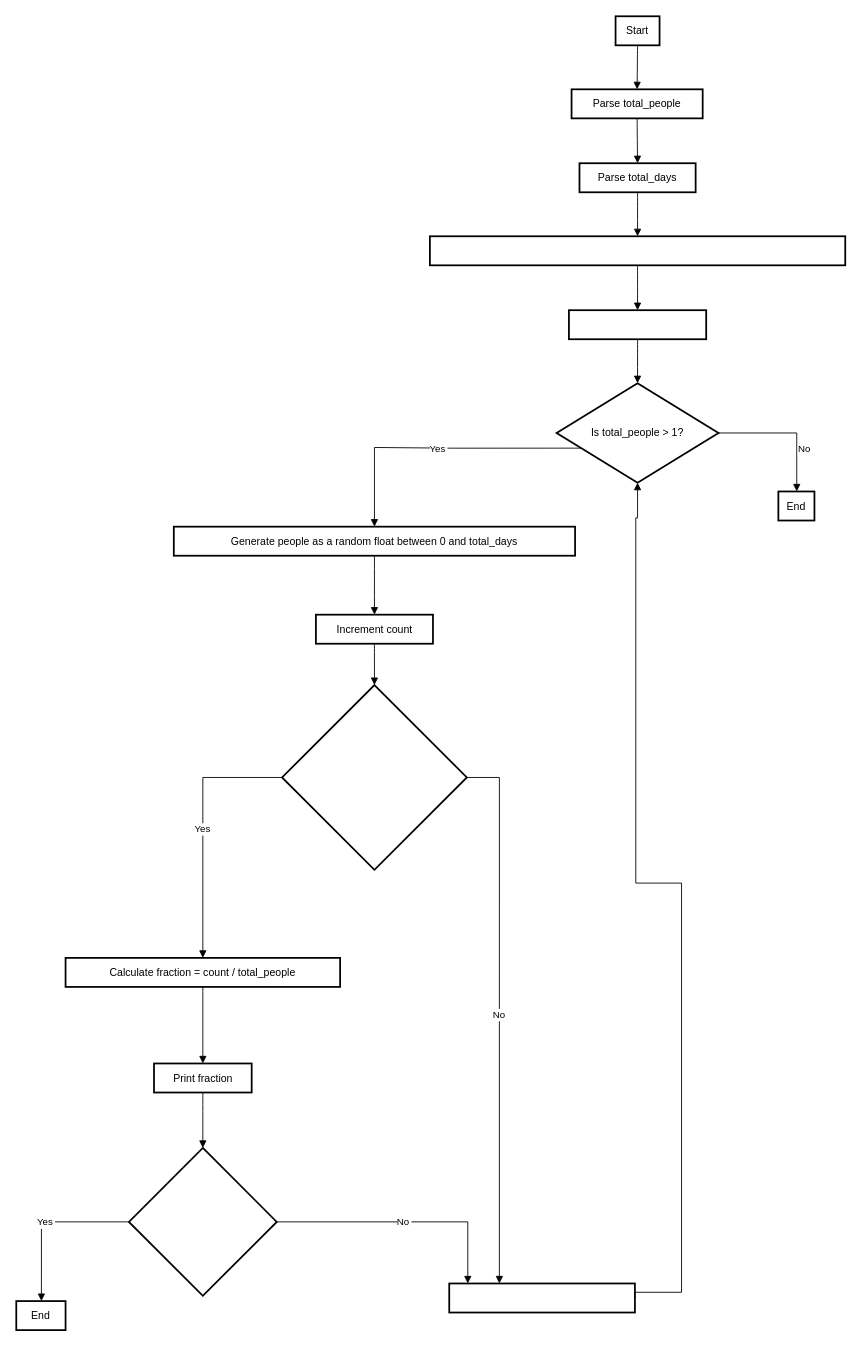
Image size: 861x1346. Some labels were removed from this diagram. The shapes that lost their labels are listed below. From the top down, each one's box as (x1, y1, x2, y2) in pixels, then its label:
(429, 235, 846, 266): Generate person_1 as a random float between 0 and total_days
(568, 309, 707, 340): Initialize count to 1
(281, 684, 467, 870): Is person_1 == people?
(128, 1147, 277, 1296): Is fraction > 0.5?
(448, 1282, 635, 1313): Decrease total_people by 1
